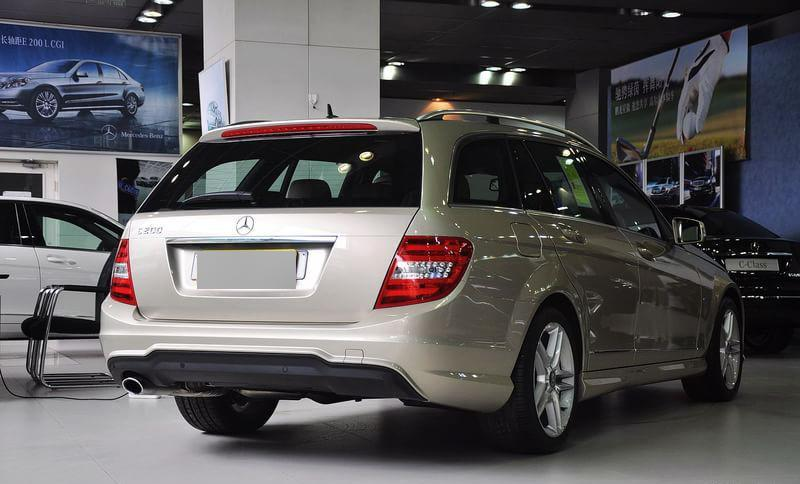Wagon: (97, 105, 747, 455)
